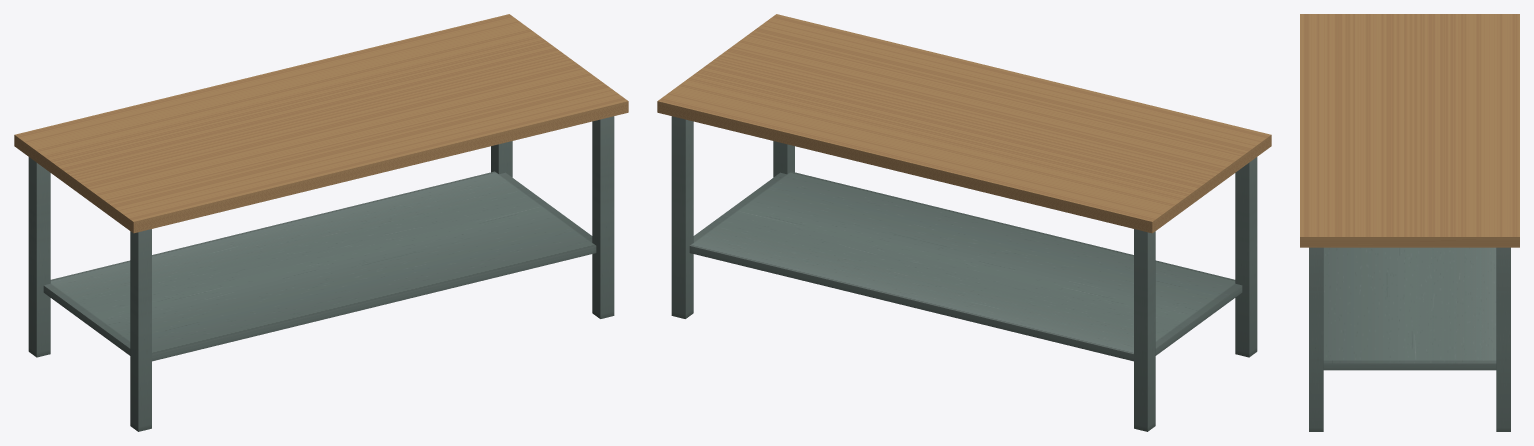
The model's file is workbench_steel.glb.
3 renders of one model, left to right at view 1: azimuth 30°, elevation 25°; view 2: azimuth 150°, elevation 25°; view 3: azimuth 270°, elevation 25°, orthographic. The views are drawn at different scales.
Parts seen in each view (by area): view 1: workbench_steel; view 2: workbench_steel; view 3: workbench_steel.
Part boxes in pixels (left/top/right/bottom): workbench_steel: left=14, top=14, right=628, bottom=431; workbench_steel: left=657, top=14, right=1271, bottom=431; workbench_steel: left=1300, top=14, right=1519, bottom=431.
Bounding box in the file's own units: 1.8 × 0.75 × 0.75.
Materials: 2 (2 with a texture image).
